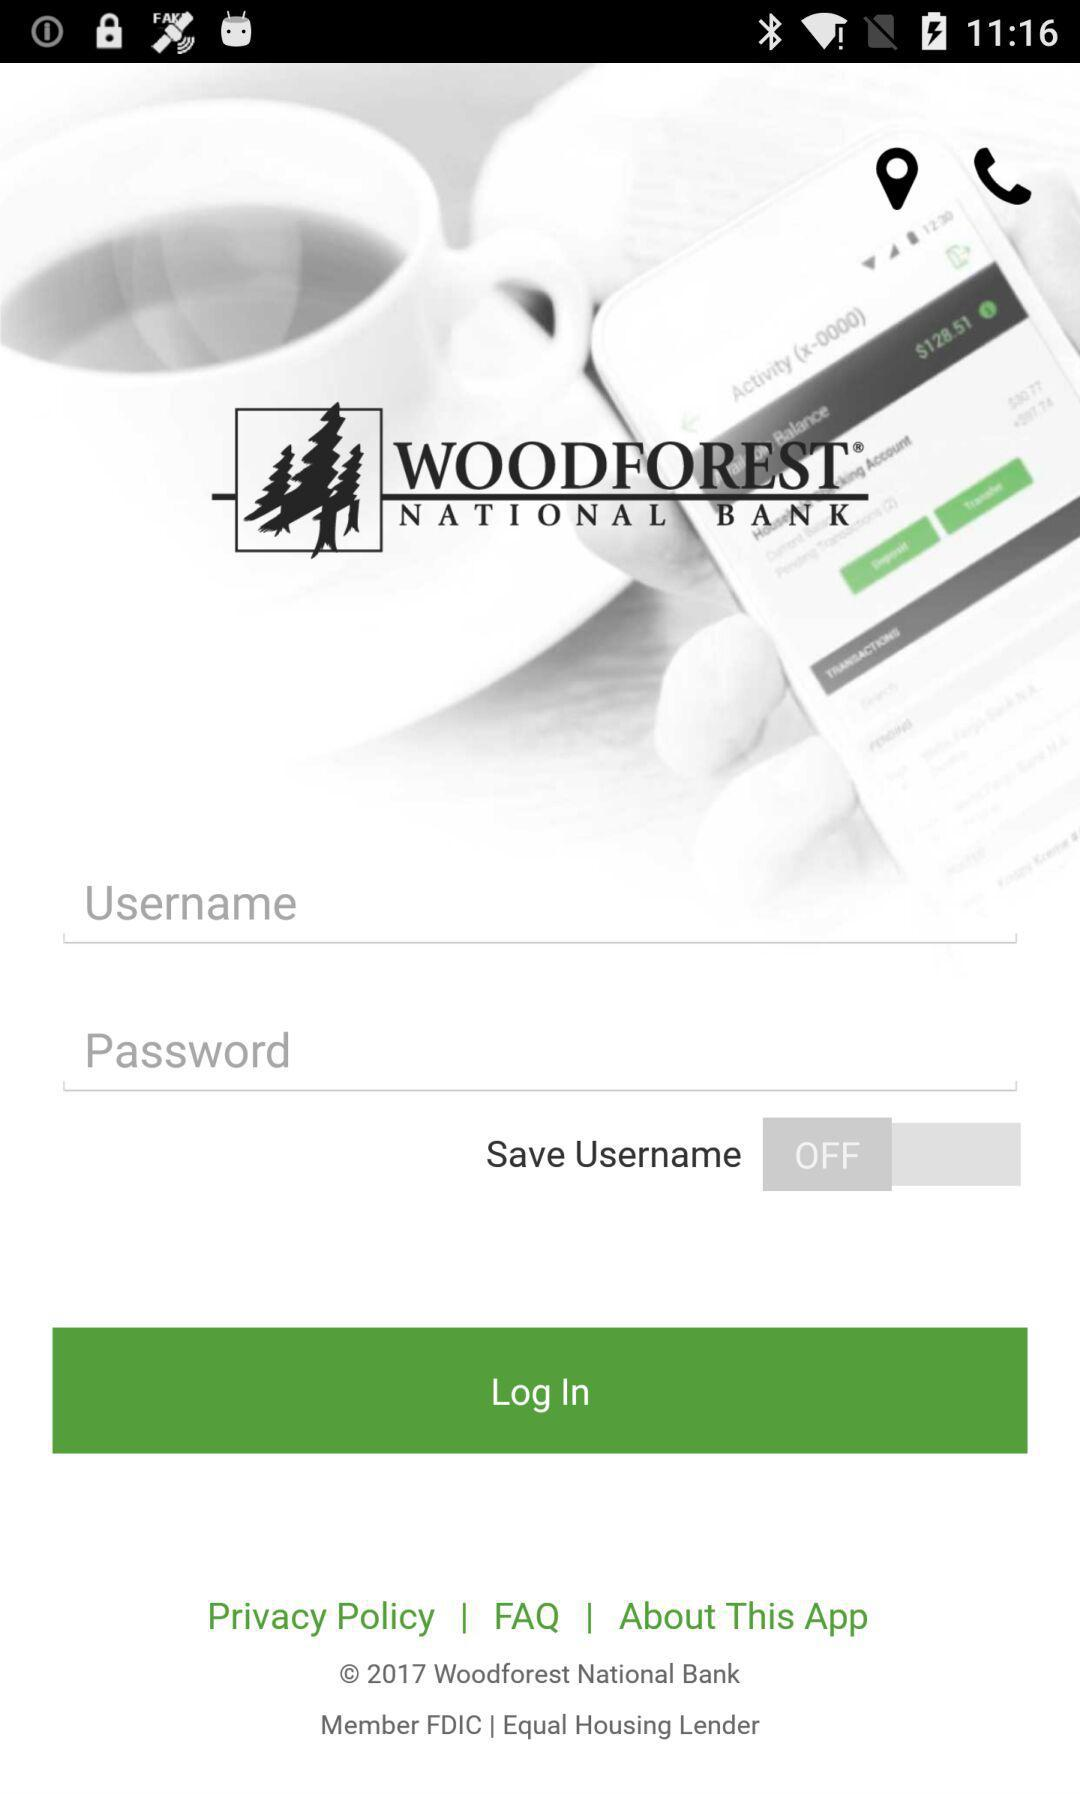EditText: (63, 1032, 1019, 1093), (63, 885, 1019, 944)
Icon: (875, 147, 919, 211)
Image: (211, 401, 869, 561), (972, 147, 1033, 208)
Switch: (762, 1117, 1022, 1192)
Text: (322, 1713, 761, 1740), (619, 1601, 869, 1638), (340, 1662, 740, 1684), (210, 1601, 436, 1638), (487, 1140, 743, 1170), (87, 885, 296, 921), (88, 1032, 290, 1069), (496, 1602, 560, 1634)
TextButton: (53, 1328, 1027, 1454)
UpperTaskBar: (1, 1, 1080, 64)
